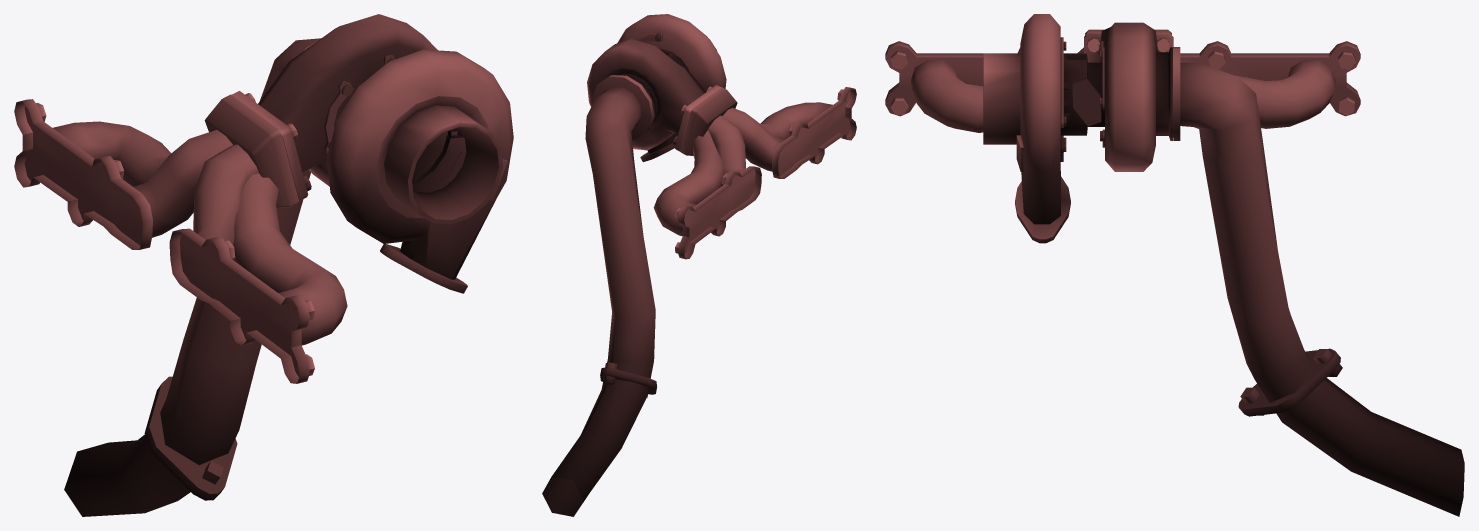
The model's file is BP_TurboManifold1.fbx.
3 renders of one model, left to right at view 1: azimuth 30°, elevation 25°; view 2: azimuth 150°, elevation 25°; view 3: azimuth 270°, elevation 25°, orthographic. The views are drawn at different scales.
Parts seen in each view (by area): view 1: BP_TurboManifold1; view 2: BP_TurboManifold1; view 3: BP_TurboManifold1.
Boxes of the visible parts, <box> form: BP_TurboManifold1: <box>14,14,513,516</box>; BP_TurboManifold1: <box>542,14,856,516</box>; BP_TurboManifold1: <box>885,14,1464,516</box>.
Size of the model in its own units: 30.77 by 60.28 by 61.12.
